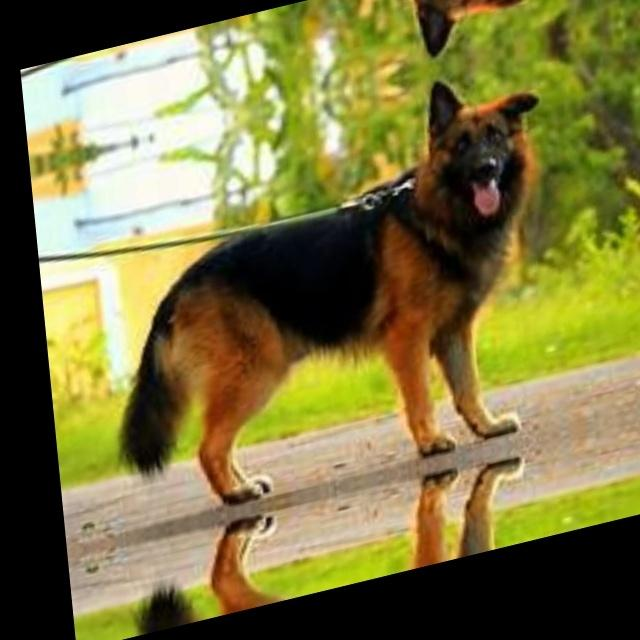dog: (127, 74, 578, 531), (162, 430, 588, 628), (115, 0, 538, 113)
